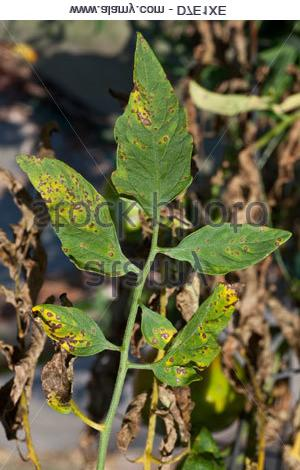Tomato Septoria leaf spot: (108, 30, 202, 225), (13, 147, 126, 284), (146, 286, 248, 395), (168, 210, 300, 284), (27, 298, 123, 361)
